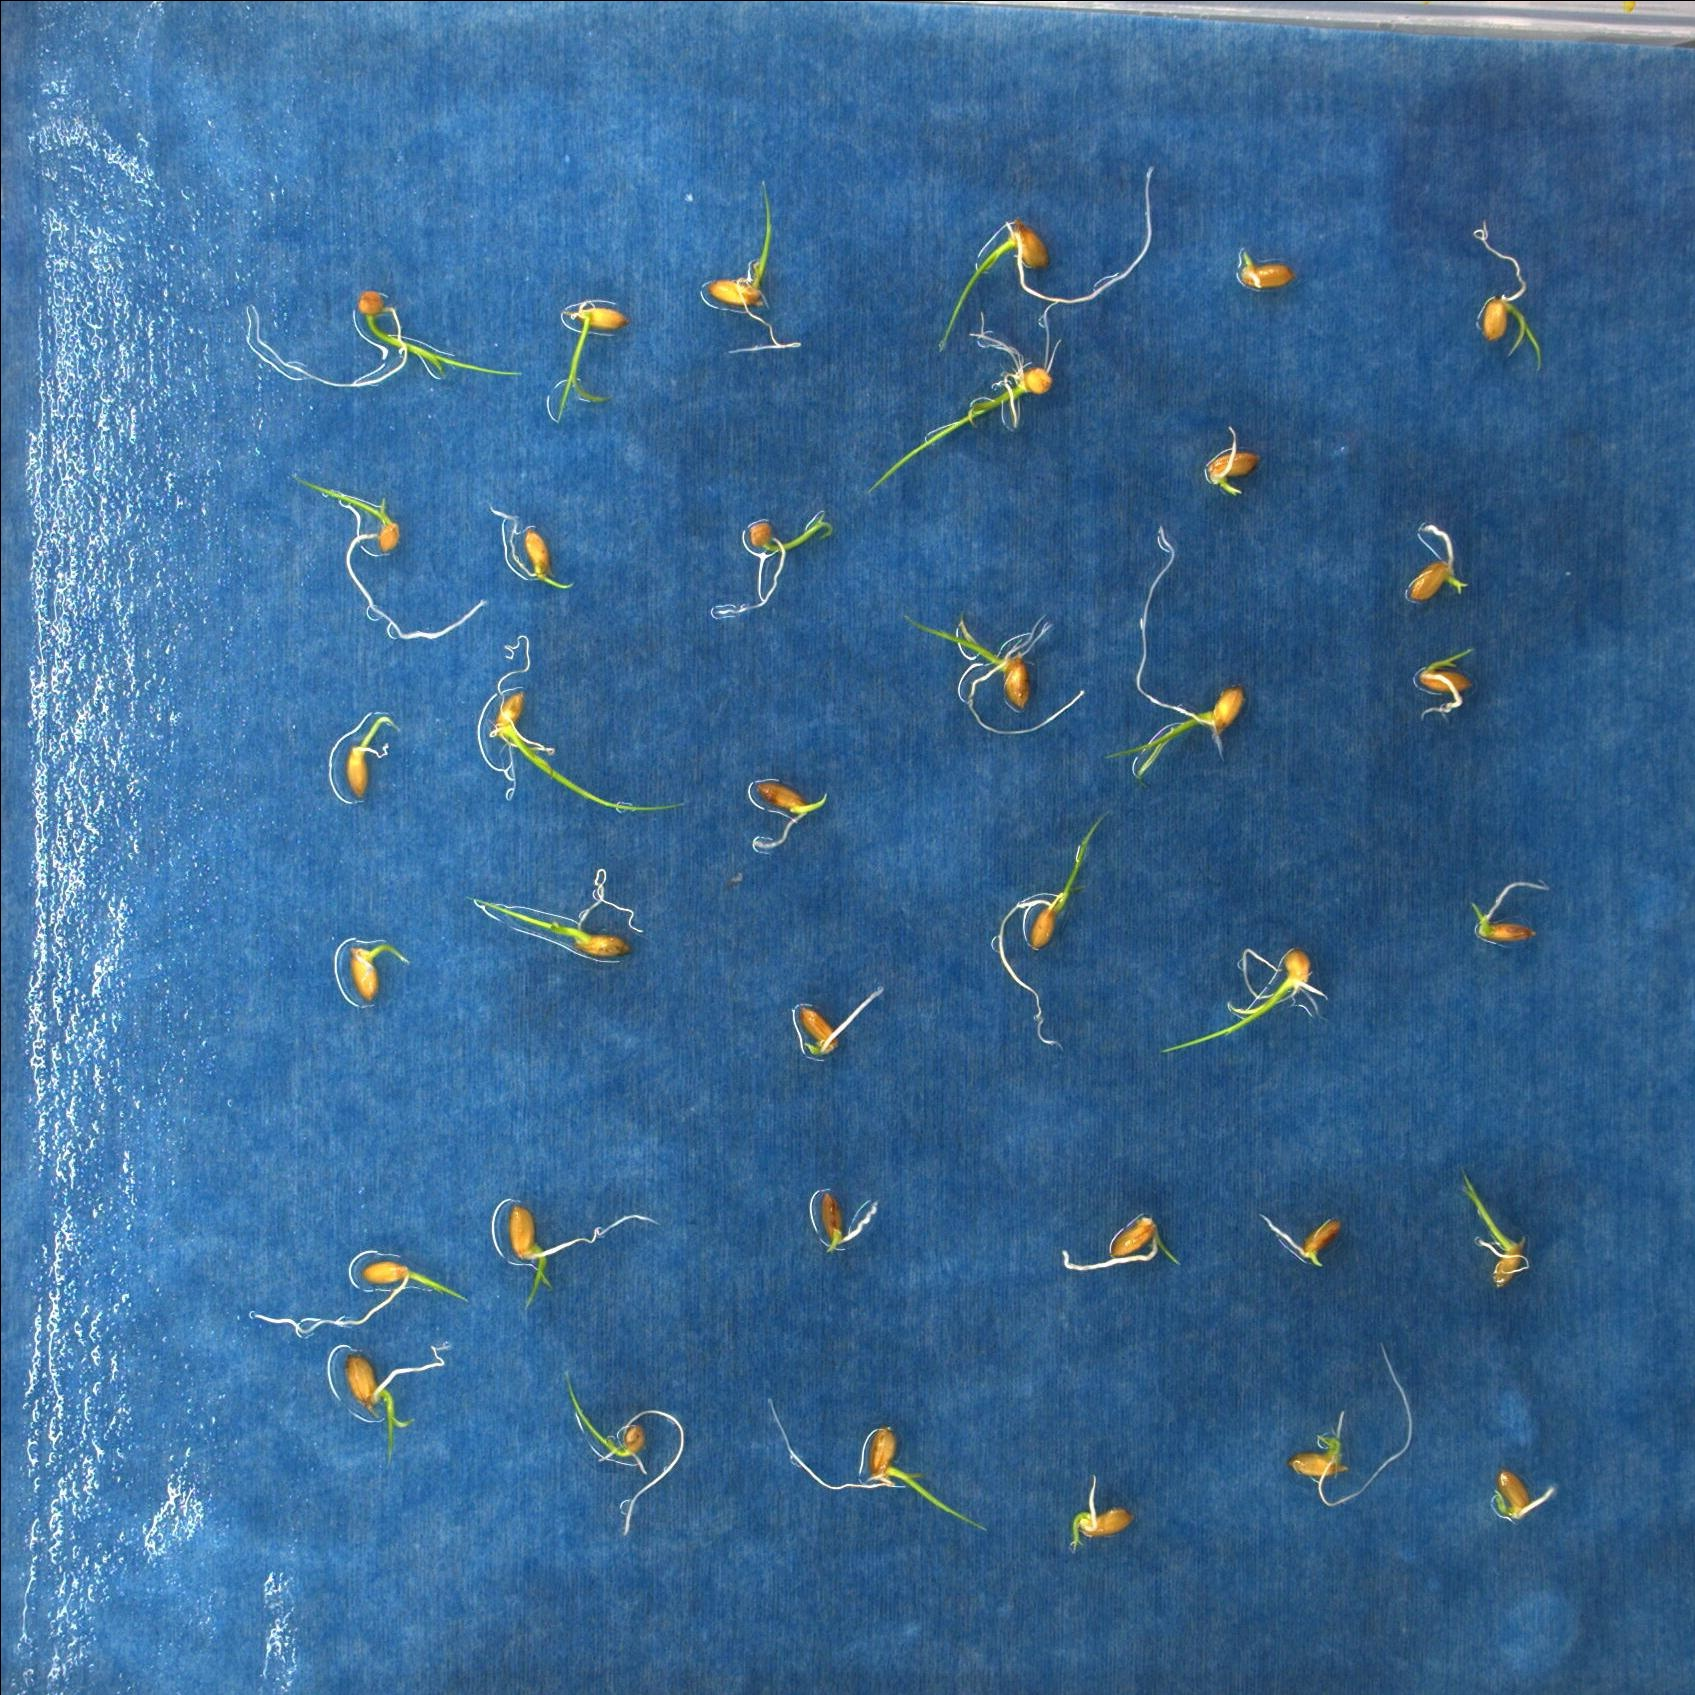not sprout: (1385, 517, 1492, 610), (784, 986, 893, 1069), (1468, 865, 1554, 948), (804, 1178, 882, 1254), (1260, 1201, 1346, 1270), (1229, 244, 1293, 293)
sprout: (841, 298, 1083, 520), (475, 627, 660, 860), (938, 147, 1144, 354), (242, 279, 536, 414), (275, 466, 494, 641), (698, 152, 841, 390), (762, 1400, 1000, 1540), (997, 792, 1124, 1045), (1122, 523, 1246, 781), (886, 590, 1077, 745), (1149, 917, 1343, 1060), (498, 1200, 674, 1338), (455, 854, 658, 970), (705, 490, 849, 647), (560, 1367, 688, 1544), (1288, 1336, 1412, 1516), (286, 1226, 486, 1330), (340, 1326, 447, 1465), (1462, 205, 1549, 374), (1444, 1152, 1540, 1295), (542, 290, 635, 436), (1057, 1203, 1187, 1281), (483, 498, 582, 596), (329, 927, 408, 1020), (324, 709, 407, 798), (1055, 1470, 1139, 1552), (742, 770, 824, 851), (1191, 424, 1273, 503), (1411, 652, 1473, 736), (1485, 1464, 1557, 1527)
